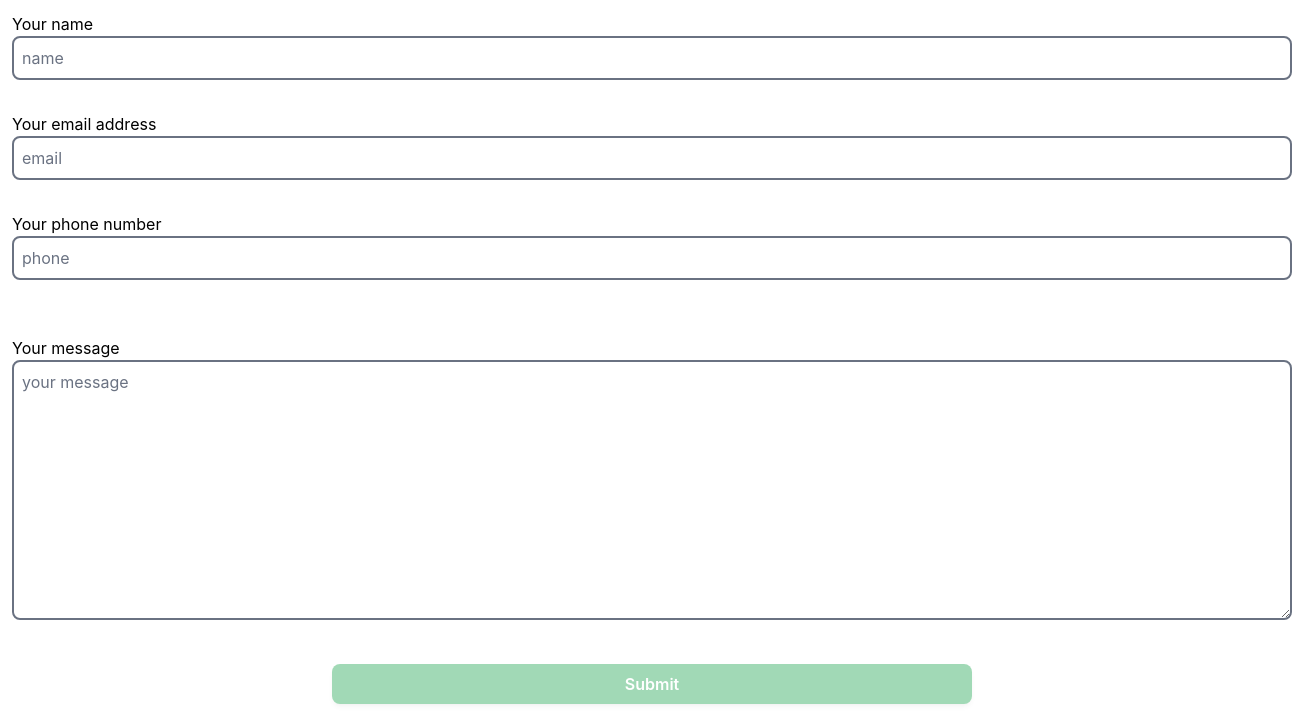
Test: BaseContactForm › displays error message for invalid name
Type "a" into the field with id "name". click: (652, 58)
box: [12,36,1292,80]
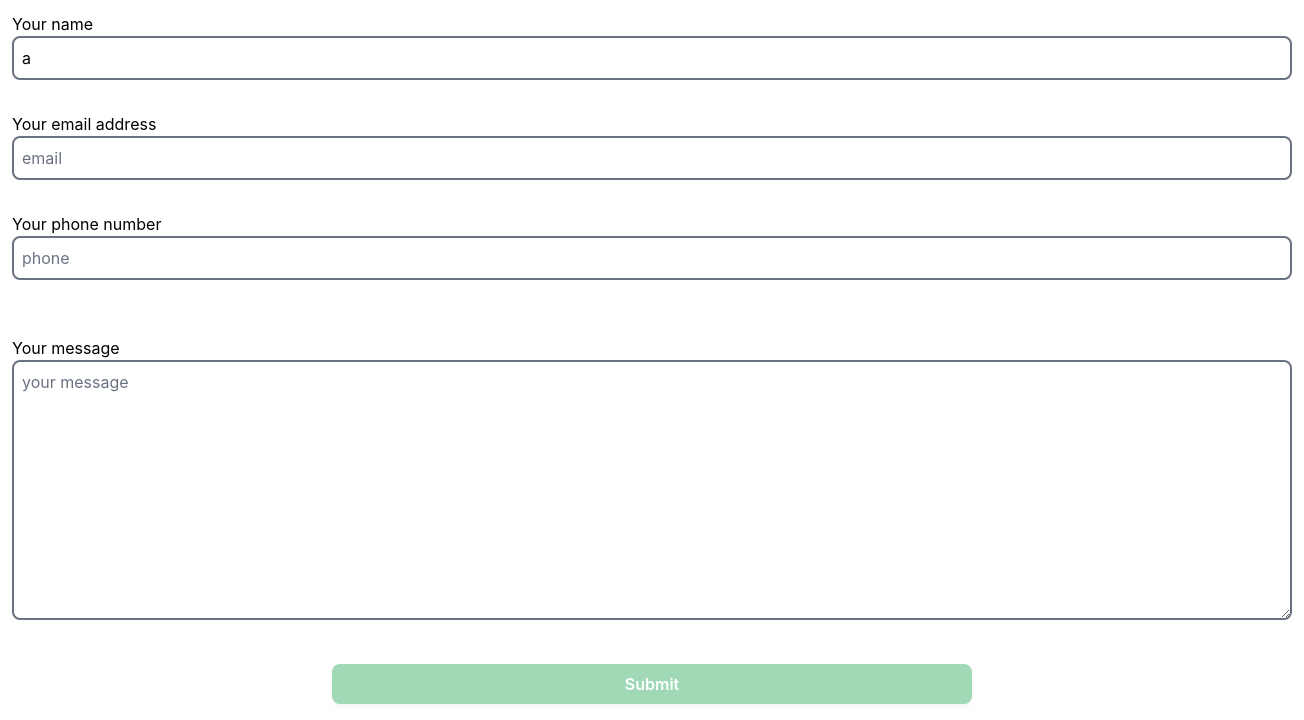
Leave the field with id "name", box [12,36,1292,80]
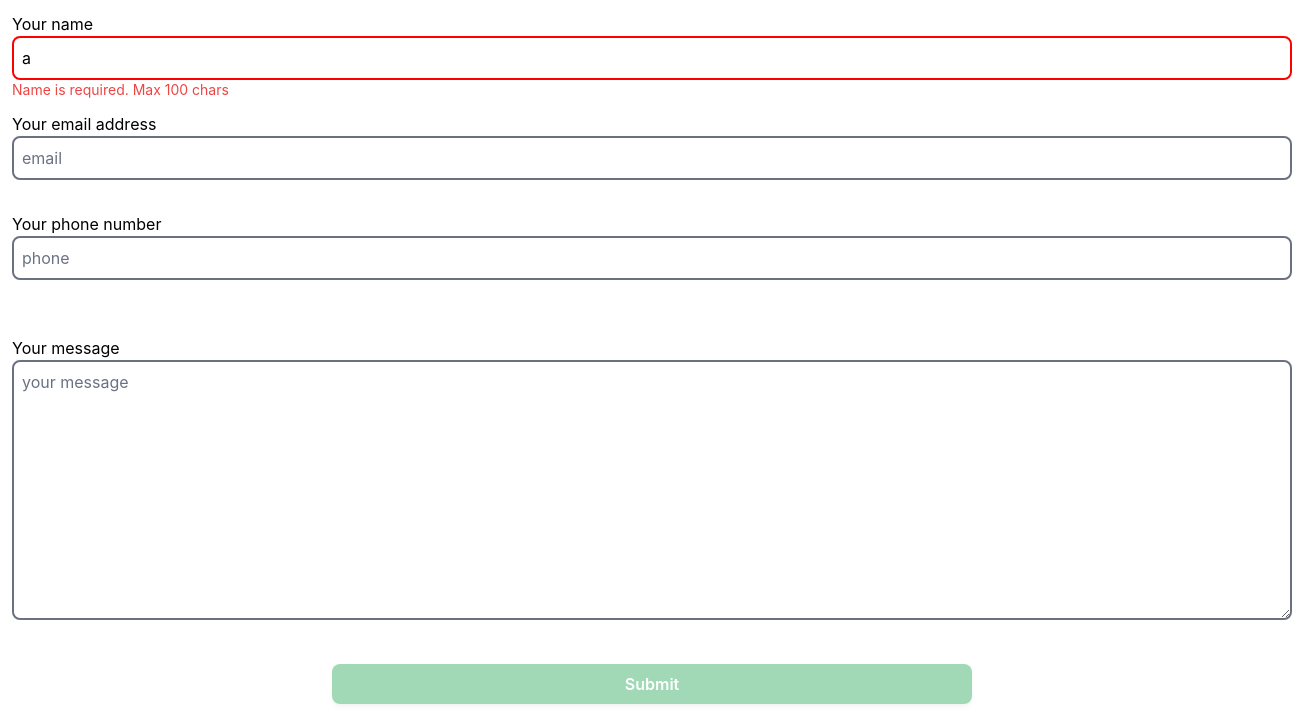
expect the text "Name is required" is shown: met, box [12,81,229,98]
